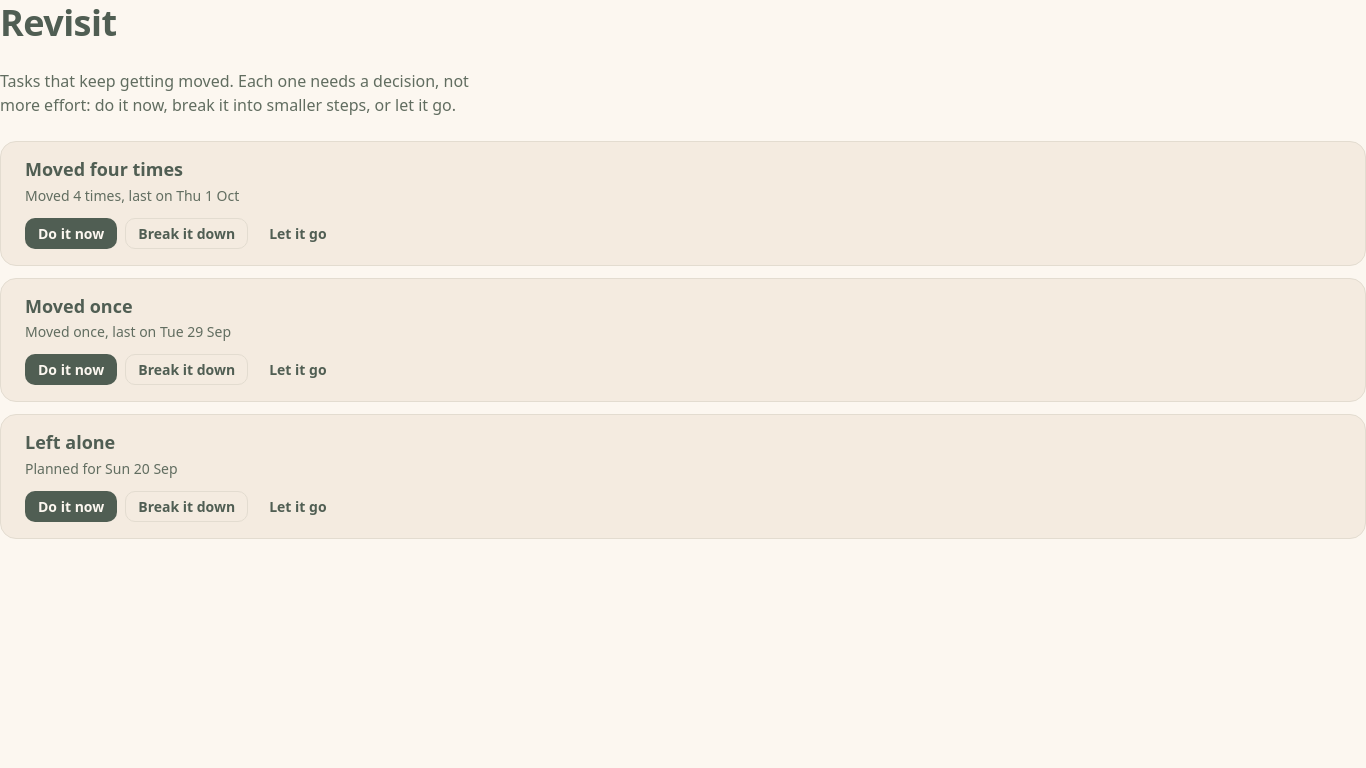
RevisitRoute: let it go › someday or delete, each undoable
Expected: the text "Each one needs a decision" is shown, [0,70,469,116]
Click the button "Let it go" below "Moved once, last on Tue 29 Sep" at (298, 370), box [256,354,340,385]
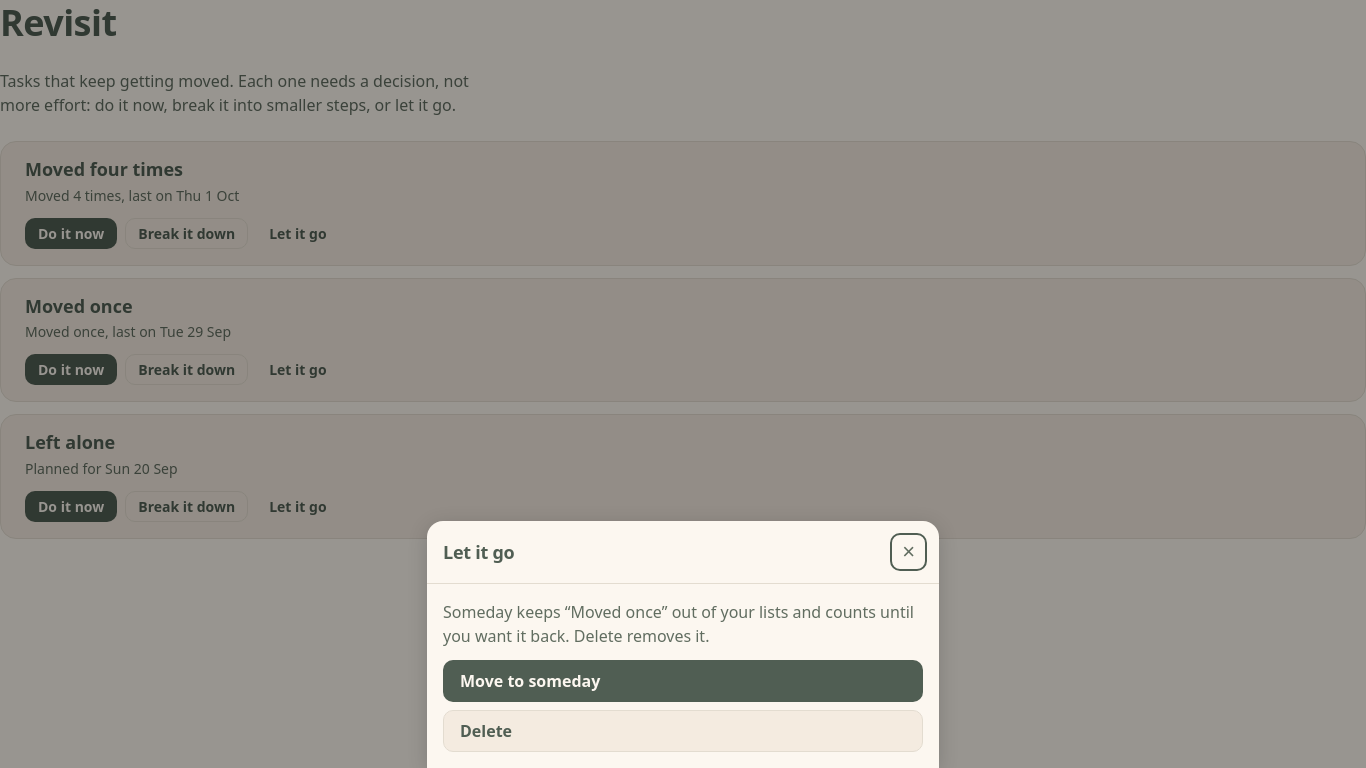
Click the button "Move to someday" at (530, 681), box [443,660,923,702]
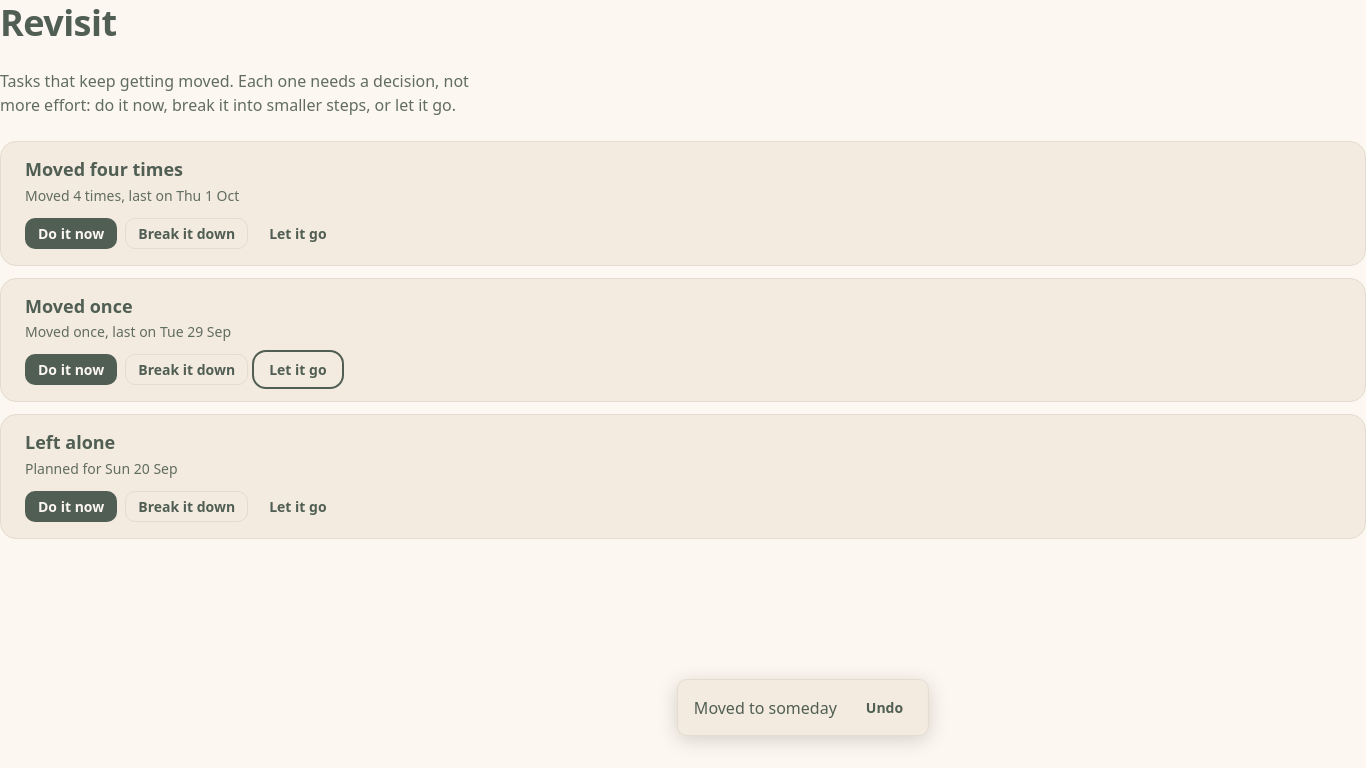
Click the button "Undo" at (884, 708), box [853,692,916,723]
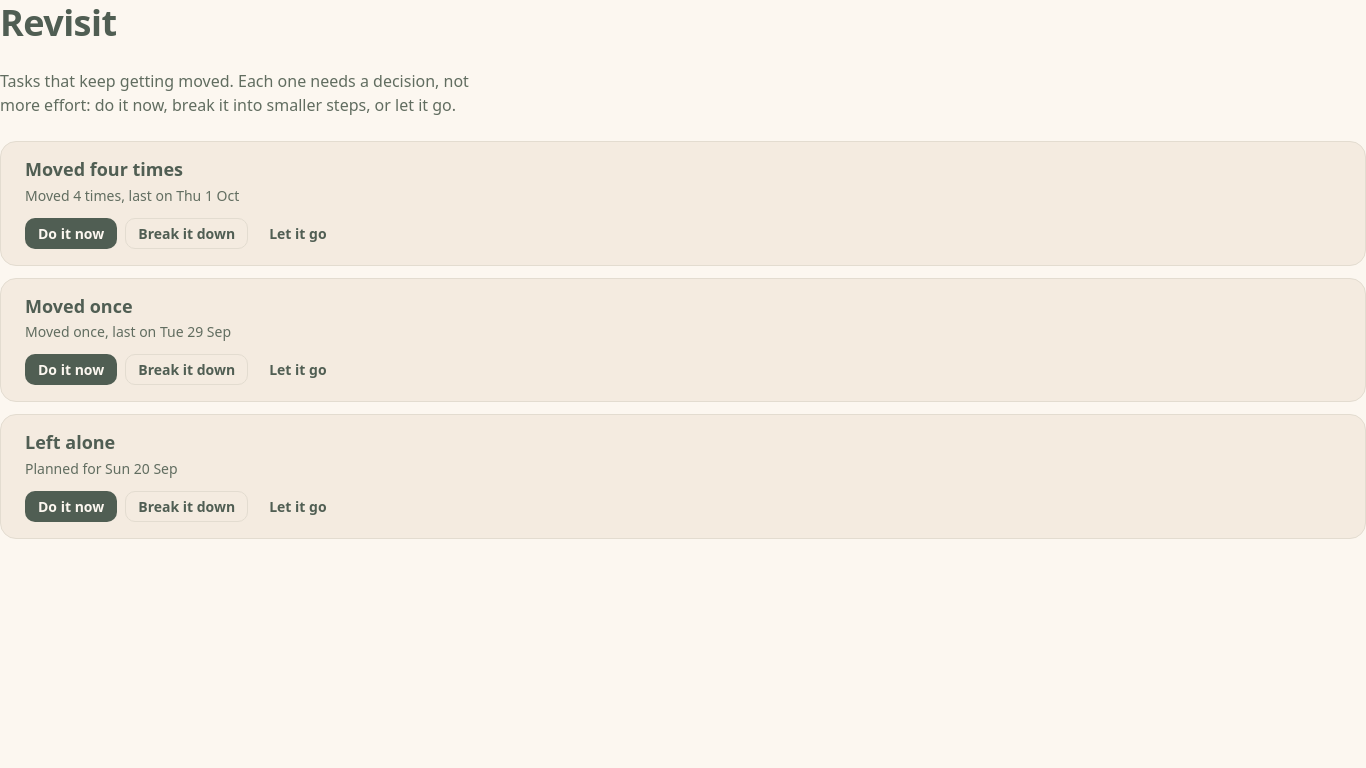
Click the button "Let it go" below "Left alone" at (298, 506), box [256,490,340,522]
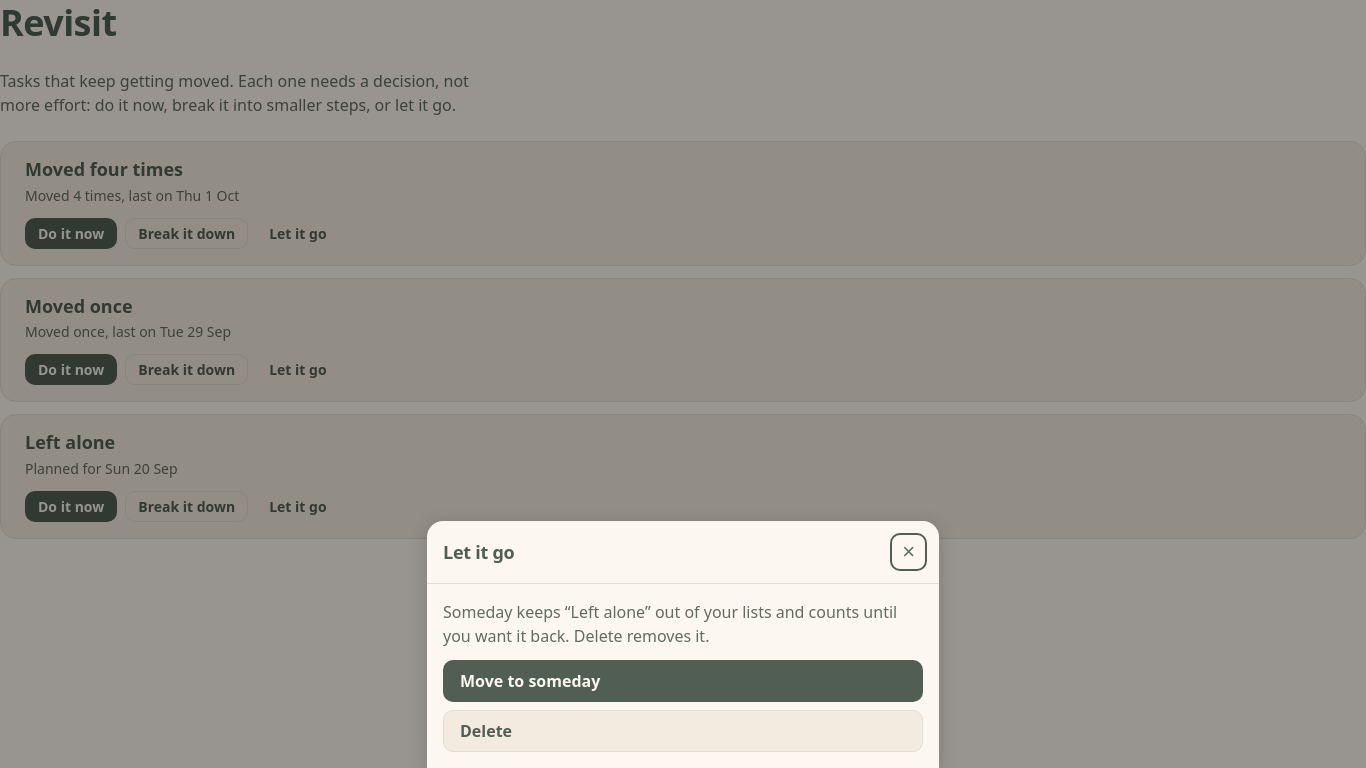
Click the button "Delete" at (486, 731), box [443,710,923,752]
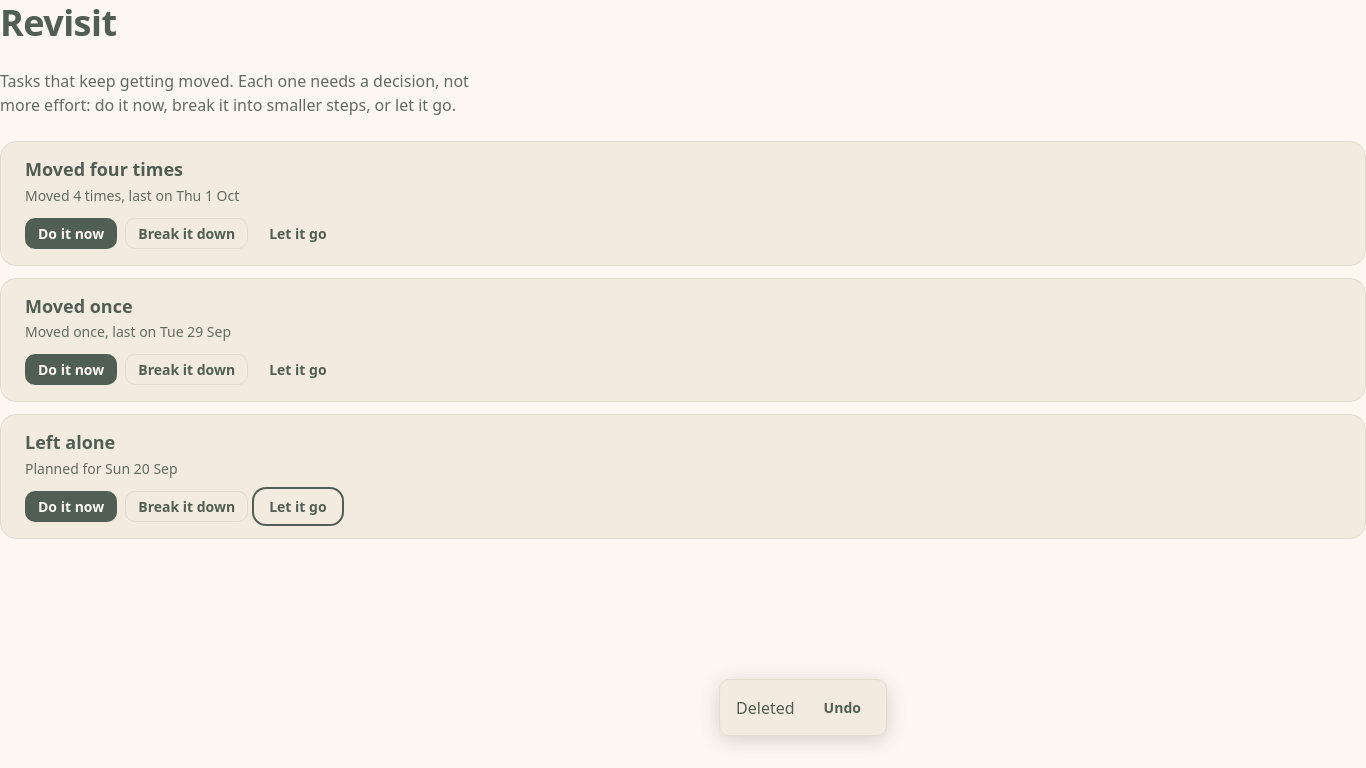
Expected: the text "Deleted" is shown, [736,696,795,720]
